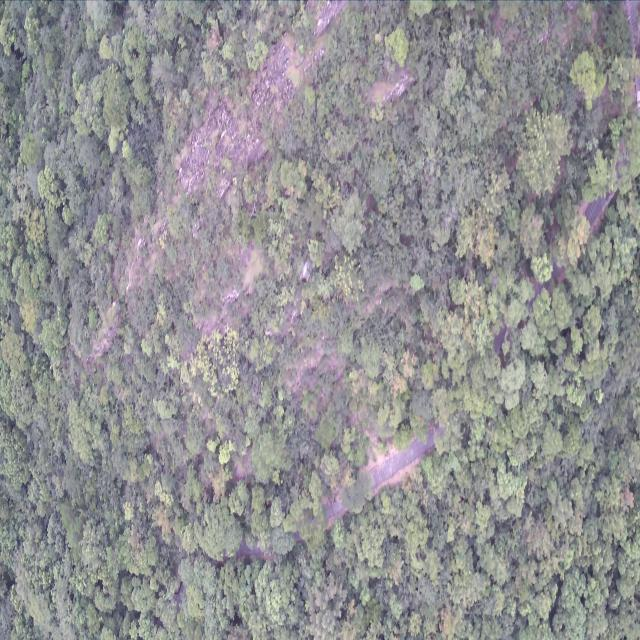drone: (300, 260, 310, 282)
